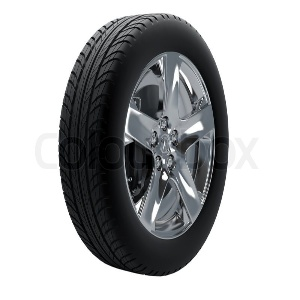tire: (57, 15, 233, 278)
